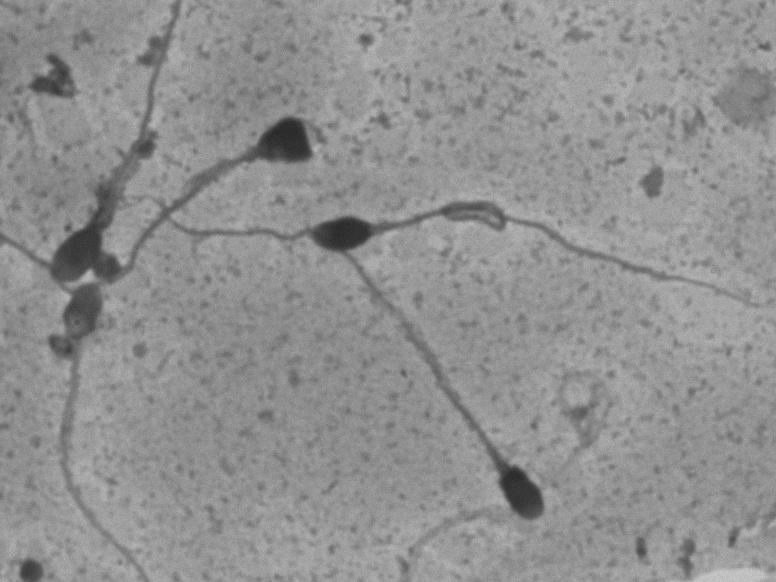Abnormal: (332, 279, 569, 546), (113, 88, 350, 347), (289, 194, 734, 286)
